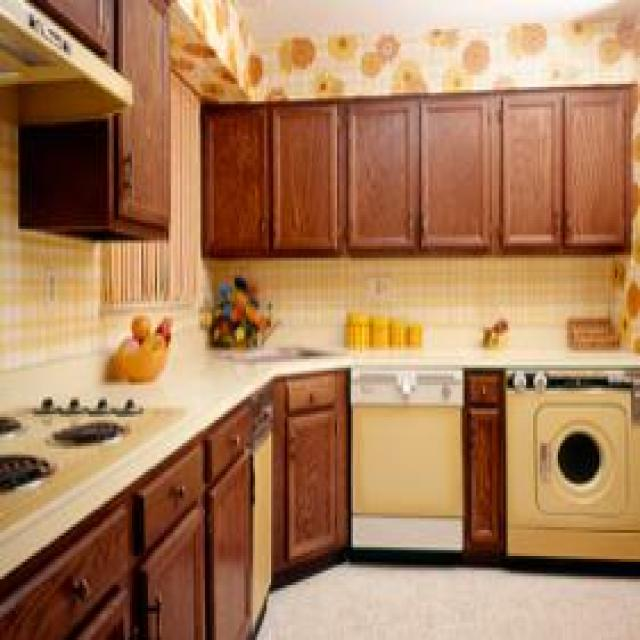dishwasher: (349, 362, 460, 547)
